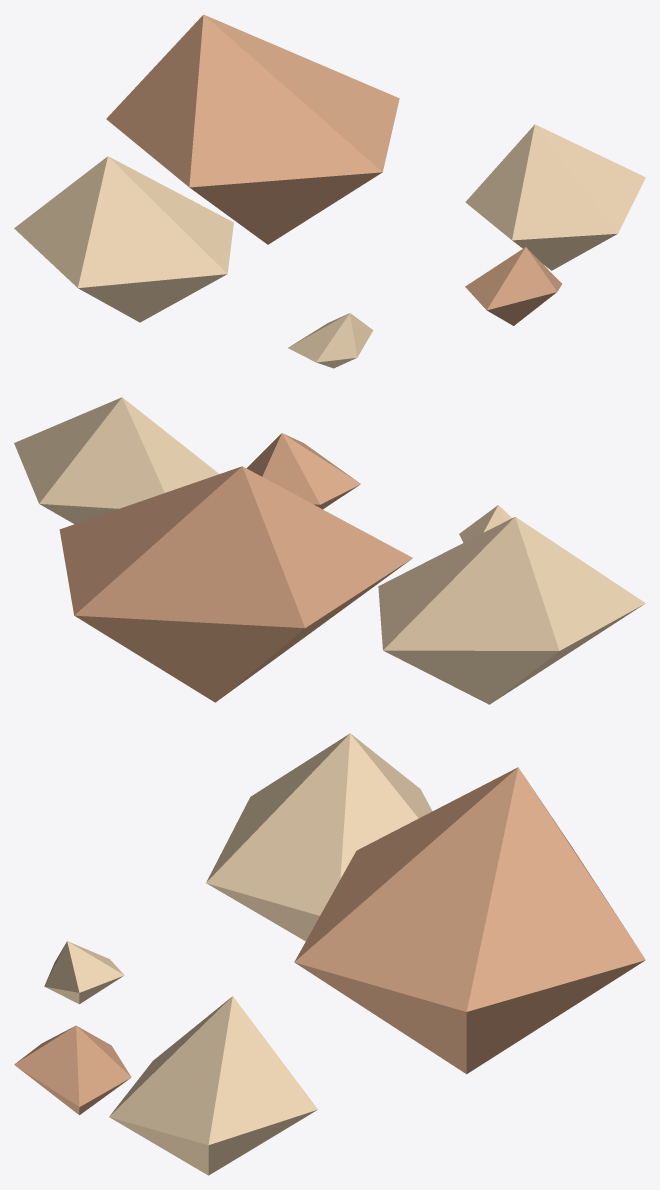
3 renders of one model, top to bottom at view 1: azimuth 30°, elevation 25°; view 2: azimuth 150°, elevation 25°; view 3: azimuth 270°, elevation 25°, orthographic. The views are drawn at different scales.
Bounding box in the file's own units: 6.13 × 2.4 × 4.9.
